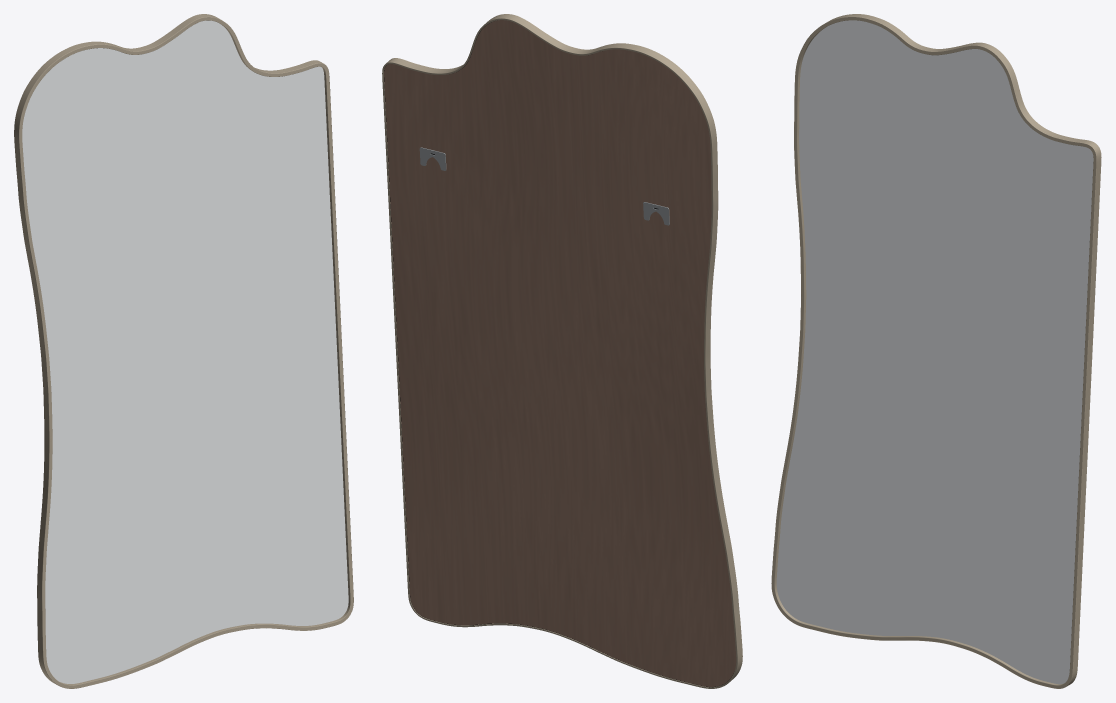
The model's file is solenne-gold.glb.
The picture shows the model from 3 angles, left to right: view 1: azimuth 30°, elevation 25°; view 2: azimuth 150°, elevation 25°; view 3: azimuth 330°, elevation 25°; orthographic projection. The views are drawn at different scales.
Visible parts, largest first — view 1: BrookMirror; view 2: BrookMirror; view 3: BrookMirror.
Part boxes in pixels (x1,y1,x2,y2): BrookMirror: (14,14,353,688); BrookMirror: (382,14,742,688); BrookMirror: (771,14,1101,688).
Size of the model in its own units: 0.8996 by 1.7 by 0.1732.
5 materials, 2 textured.
